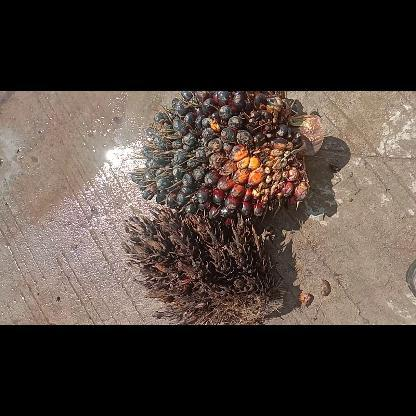Janjang kosong: (118, 206, 289, 324)
TBS mentah: (127, 90, 323, 226)
